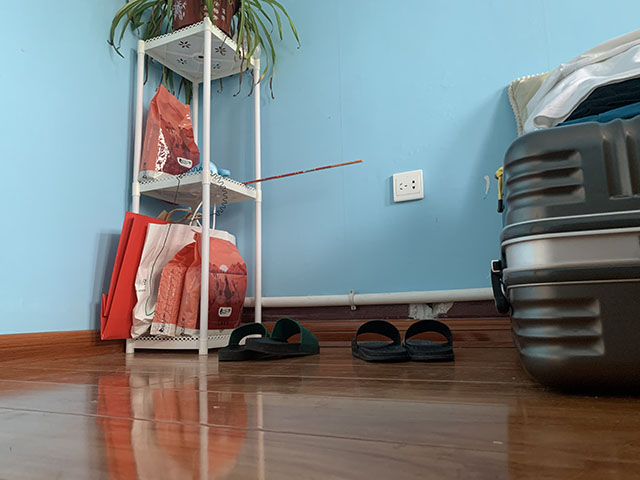slippers: (247, 317, 320, 358), (402, 319, 457, 365), (345, 317, 400, 363), (214, 323, 262, 359)
